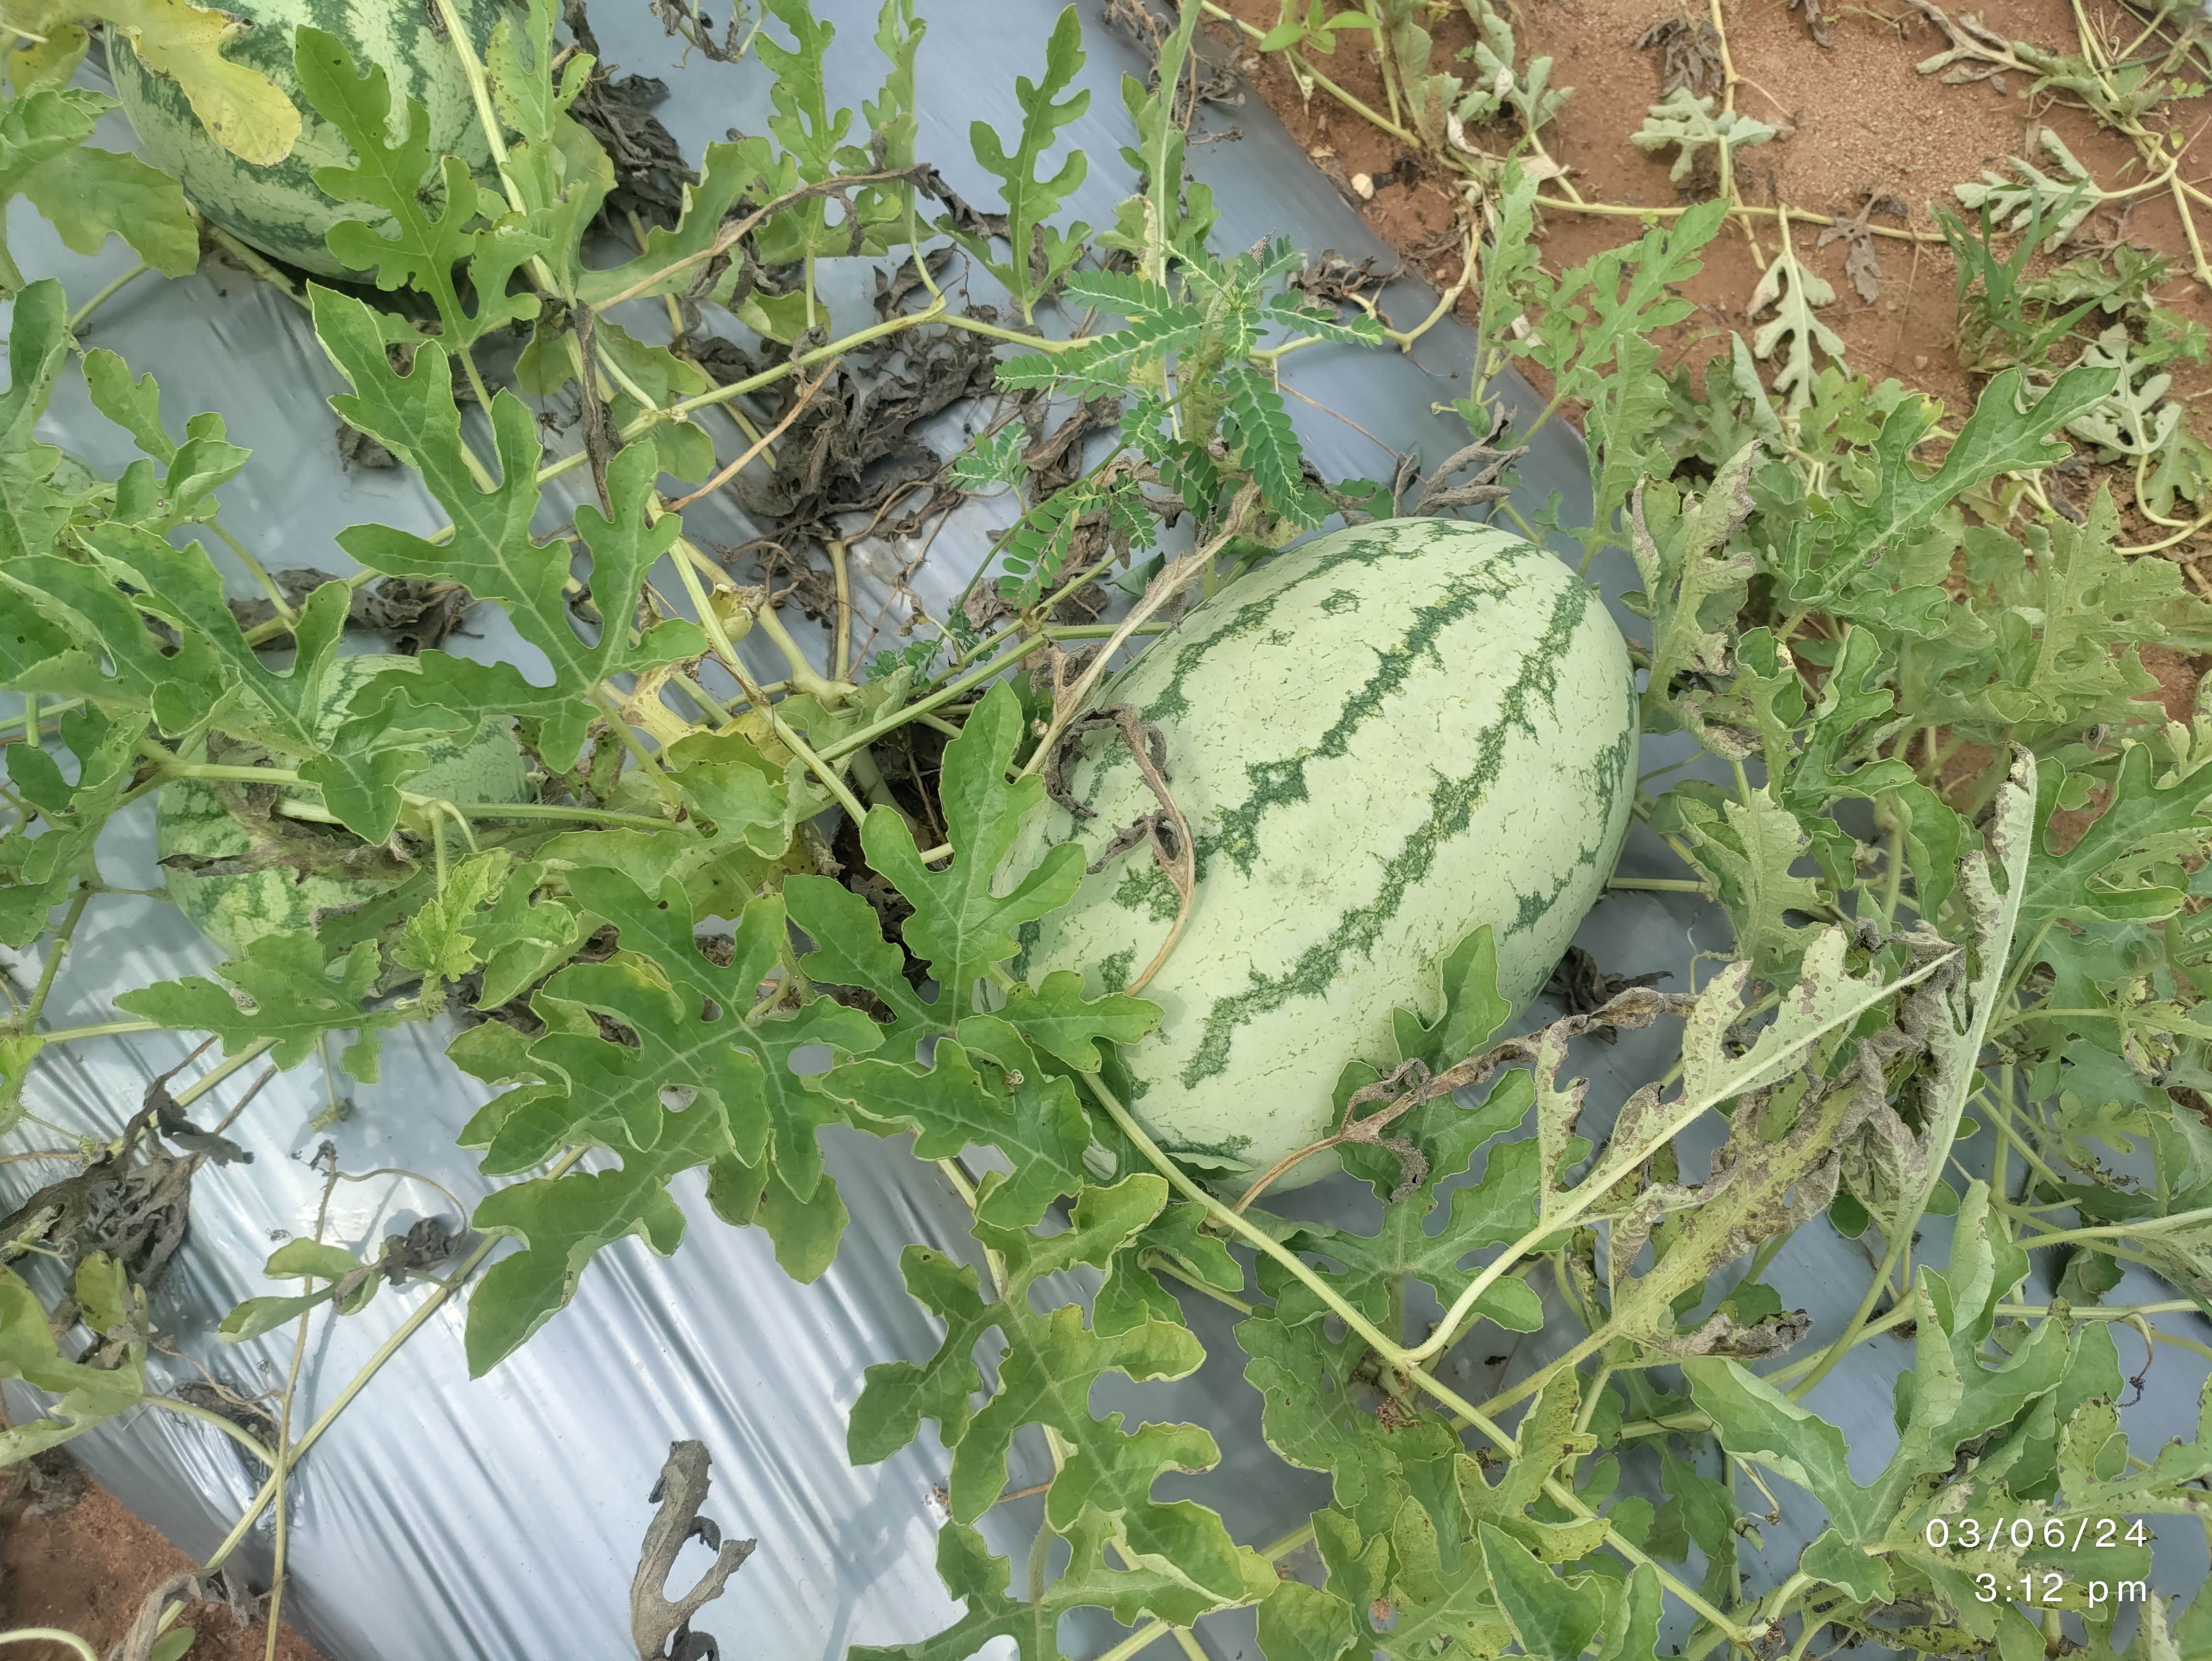good-to-harvest: (959, 426, 1661, 1136)
